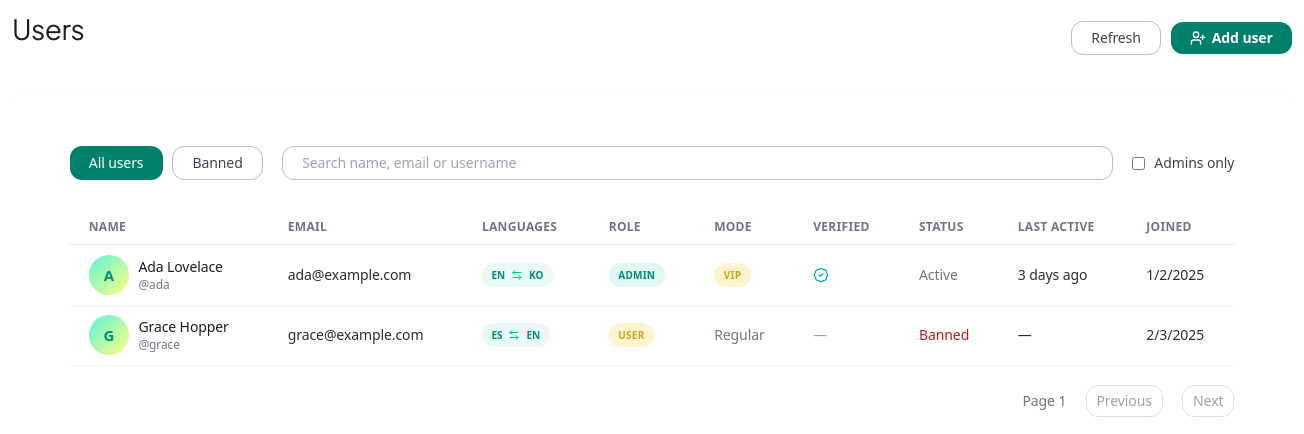
switches to the banned tab and reads the banned endpoint
This screenshot has width=1304, height=434.
Step 1. Click the tab with test id "admin-users-tab-banned" → click(218, 163), box 172,146 -> 263,180
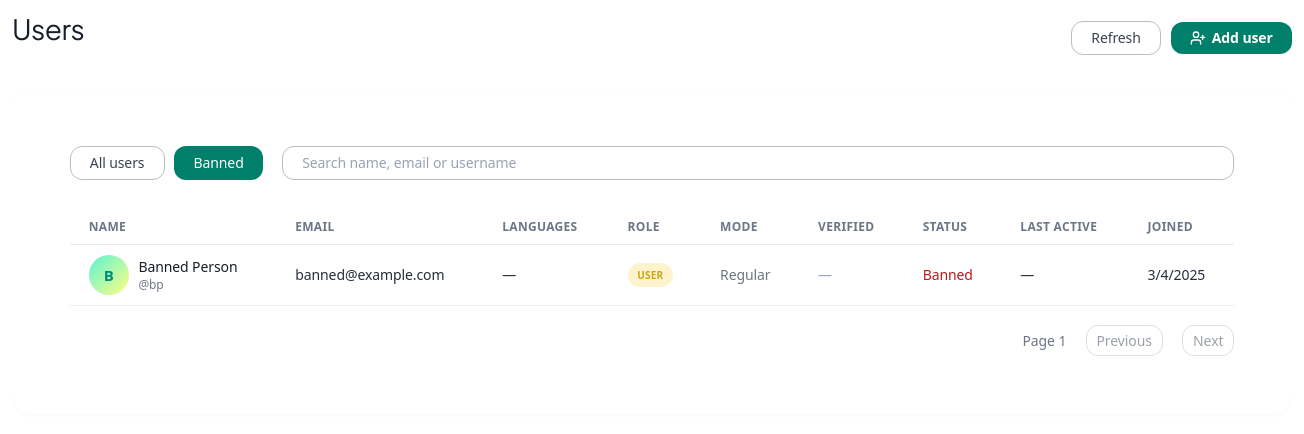
Now the text "Banned Person" is shown, box 138,257 -> 238,277
Now the button "Ada Lovelace" is gone
